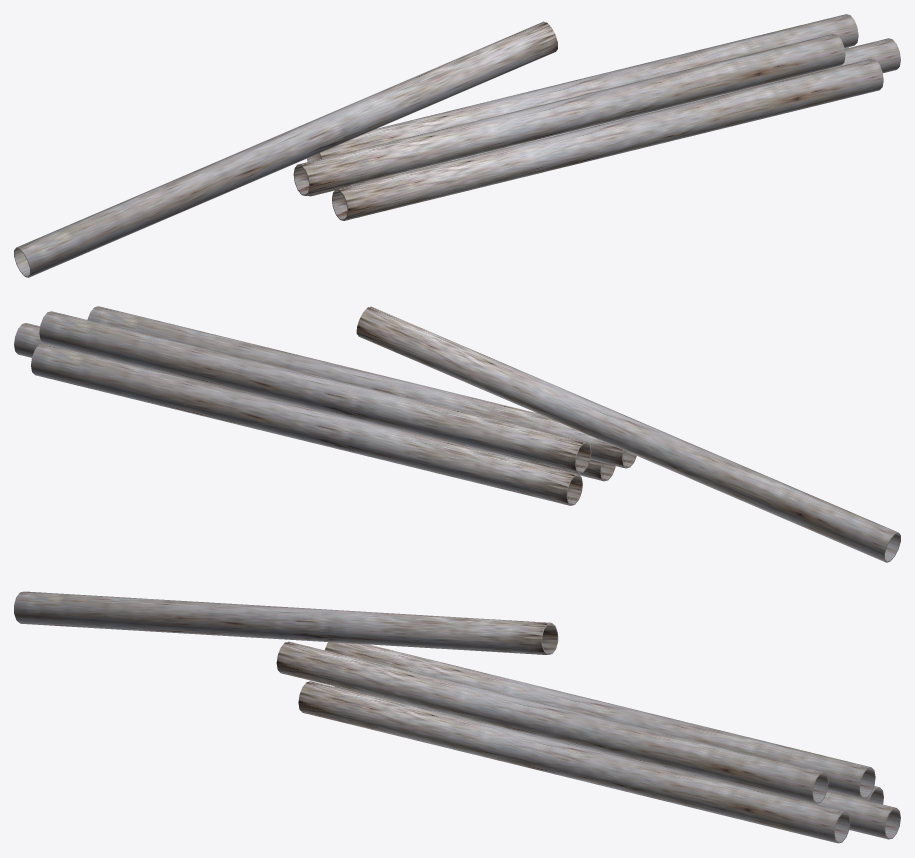
File: Pipes2.fbx
3 views of the same model, one above another, from view 1: azimuth 30°, elevation 25°; view 2: azimuth 150°, elevation 25°; view 3: azimuth 330°, elevation 25° (orthographic).
Parts seen in each view (by area): view 1: Pipe1; view 2: Pipe1; view 3: Pipe1.
Part boxes in pixels (<box>): Pipe1: <box>14,14,900,277</box>; Pipe1: <box>14,306,900,562</box>; Pipe1: <box>14,591,900,843</box>.
Bounding box in the file's own units: 981 × 140 × 97.1.
Materials: 1 (1 with a texture image).
